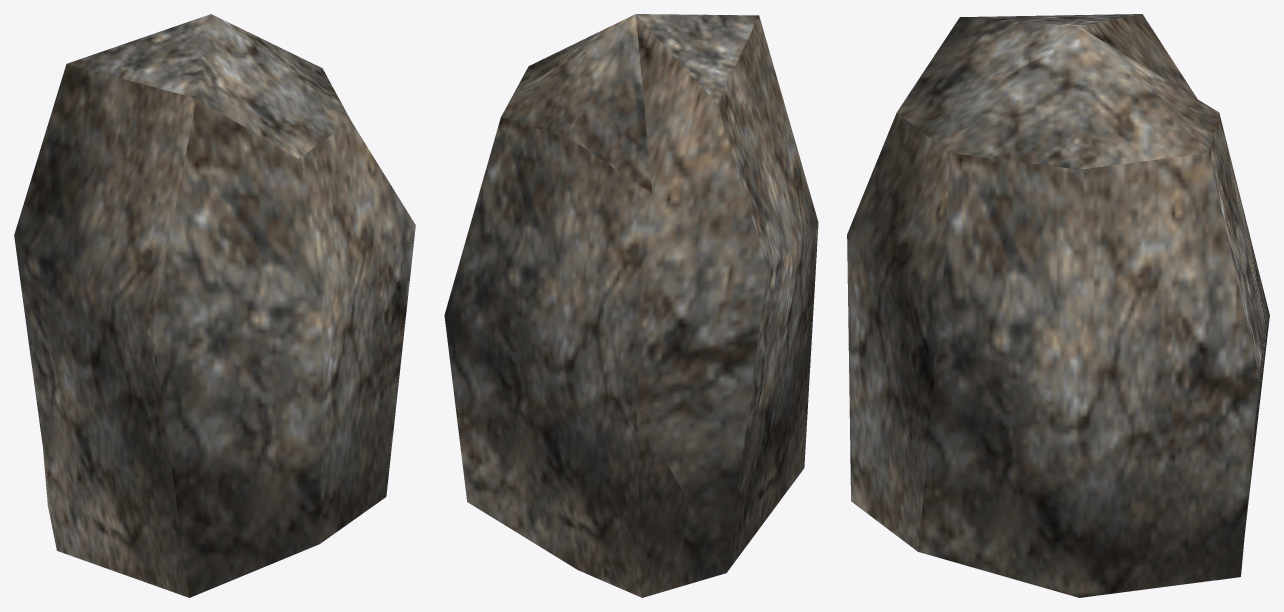
The picture shows the model from 3 angles, left to right: view 1: azimuth 30°, elevation 25°; view 2: azimuth 150°, elevation 25°; view 3: azimuth 270°, elevation 25°; orthographic projection. The views are drawn at different scales.
Parts seen in each view (by area): view 1: SMDImport; view 2: SMDImport; view 3: SMDImport.
Boxes of the visible parts, left/top/right/bottom form: SMDImport: left=14, top=14, right=415, bottom=597; SMDImport: left=444, top=14, right=818, bottom=597; SMDImport: left=847, top=14, right=1269, bottom=597.
Bounding box in the file's own units: 134 × 202 × 139.
